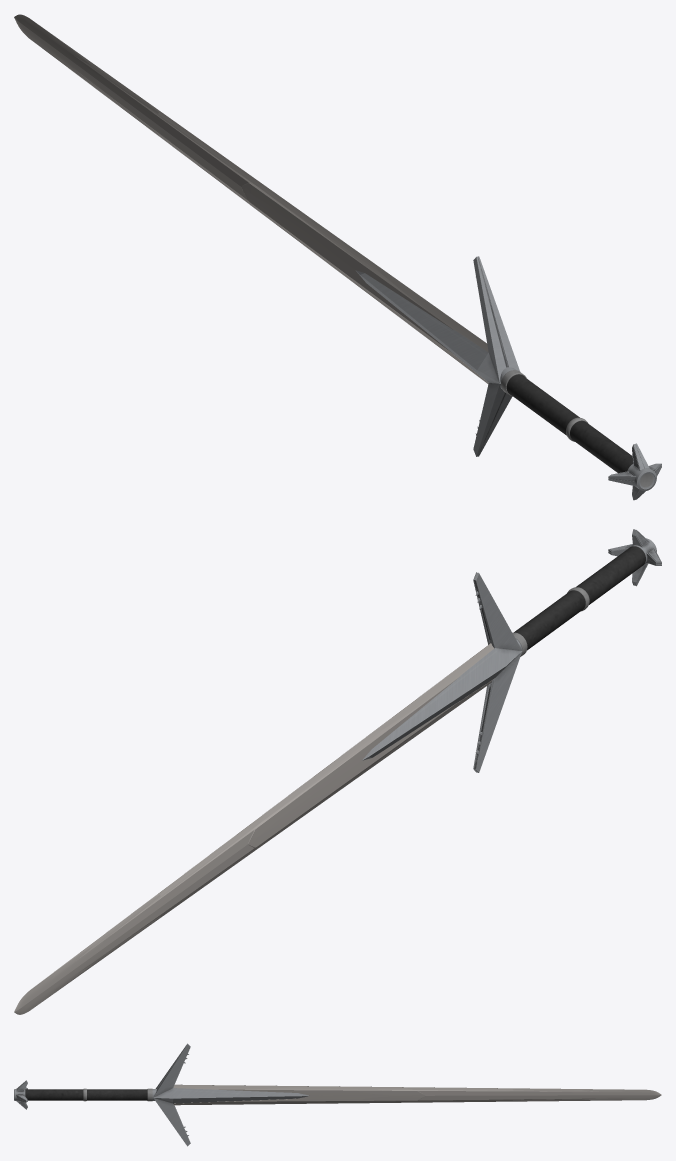
File: witcher_3_type_sword.glb
3 views of the same model, one above another, from view 1: azimuth 30°, elevation 25°; view 2: azimuth 150°, elevation 25°; view 3: azimuth 270°, elevation 25° (orthographic). The views are drawn at different scales.
Size of the model in its own units: 2.09 by 7.42 by 42.51.
4 materials, 4 textured.
